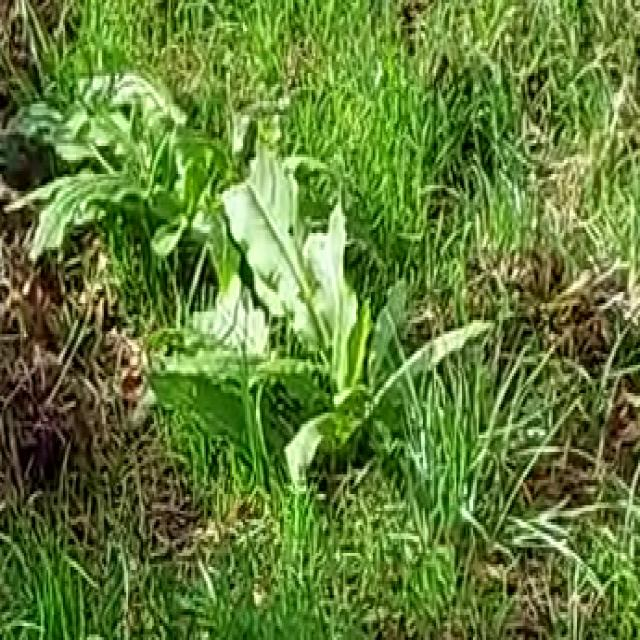organic waste: (184, 163, 426, 491), (18, 34, 240, 235)
